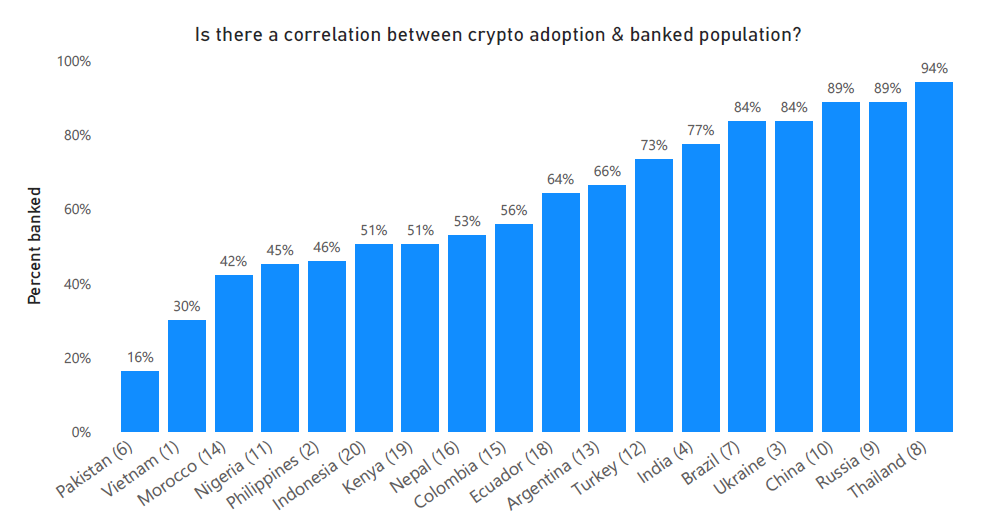

The dashboard page shown, as its layout file describes it:
{"tool":"powerbi","page":{"name":"Page 1","canvas":[1280,720],"ordinal":0},"visuals":[{"type":"columnChart","title":"Is there a correlation between crypto adoption & banked population?","fields":{"Category":["joined_table.Country_rank"],"Y":["Sum(joined_table.unbanked-percentage)"]},"box":[0,0,807.3,451.3],"z":0}]}

Visuals, with their boxes on the page's 1280x720 design canvas (x1, y1, x2, y2). These are canvas units, not pixel positions in the 1007x519 screenshot, which may show the page scaled, cropped or inside an application window:
"Is there a correlation between crypto adoption & banked population?" columnChart: left=0, top=0, right=807, bottom=451
